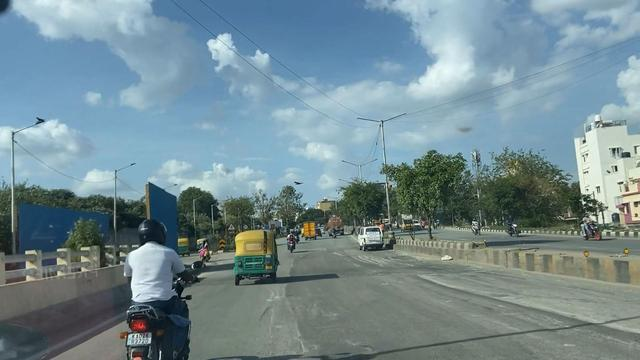RoadDamages: (264, 288, 318, 359), (352, 248, 419, 279)
